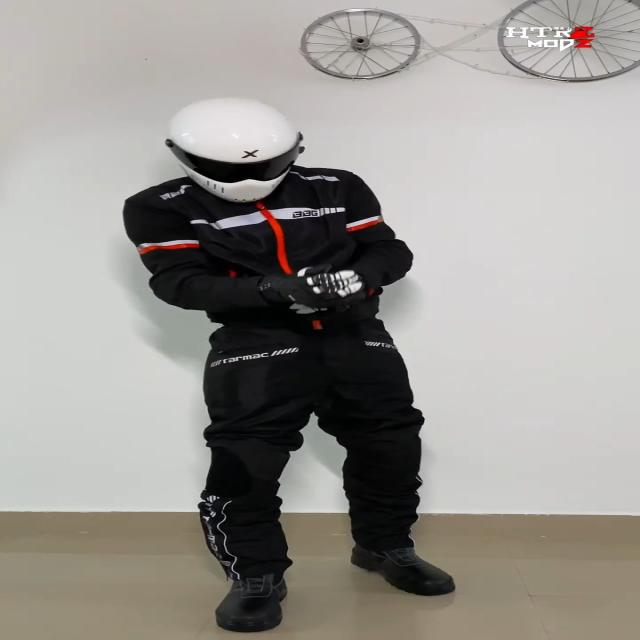Helmet_Wearer: (150, 93, 320, 205)
Jacket_Wearer: (124, 160, 418, 315)
Person: (107, 95, 472, 640)
